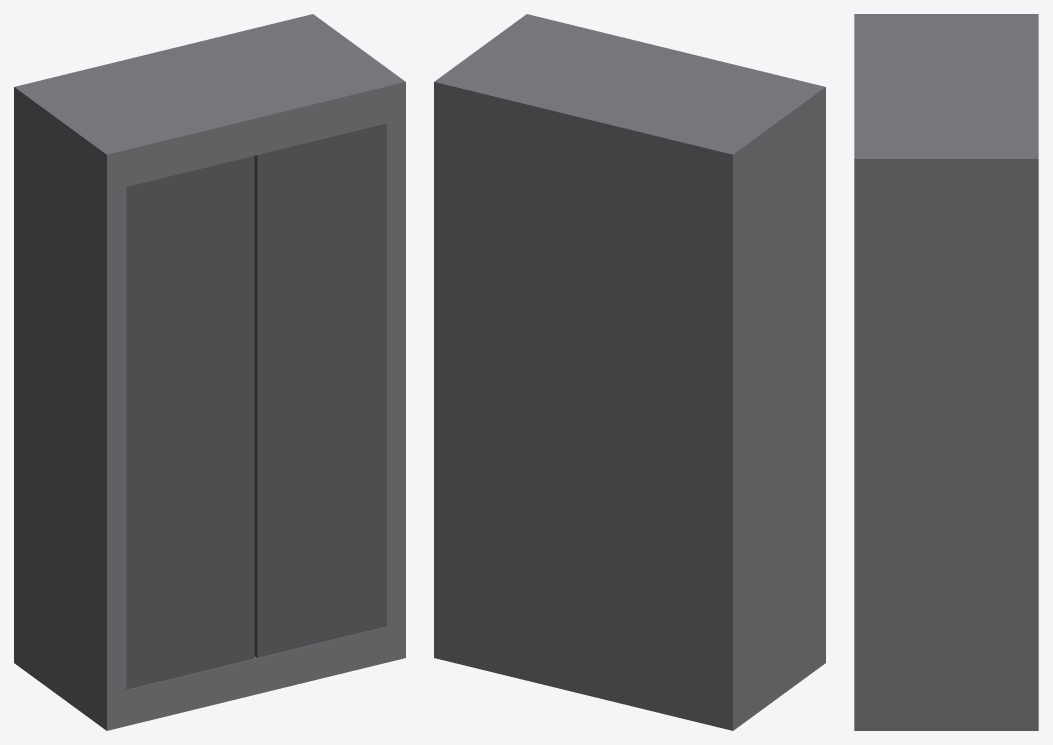
The model's file is cabinet-tall.fbx.
3 views of the same model, side by side, from view 1: azimuth 30°, elevation 25°; view 2: azimuth 150°, elevation 25°; view 3: azimuth 270°, elevation 25° (orthographic).
Parts seen in each view (by area): view 1: cabinet, L_door, R_door; view 2: cabinet; view 3: cabinet.
Boxes of the visible parts, box(x1,y1,x2,y2) form: cabinet: box(14, 14, 405, 730); L_door: box(254, 123, 385, 657); R_door: box(126, 156, 254, 689); cabinet: box(434, 14, 825, 730); cabinet: box(854, 14, 1038, 730).
Size of the model in its own units: 112 by 207 by 60.35.
